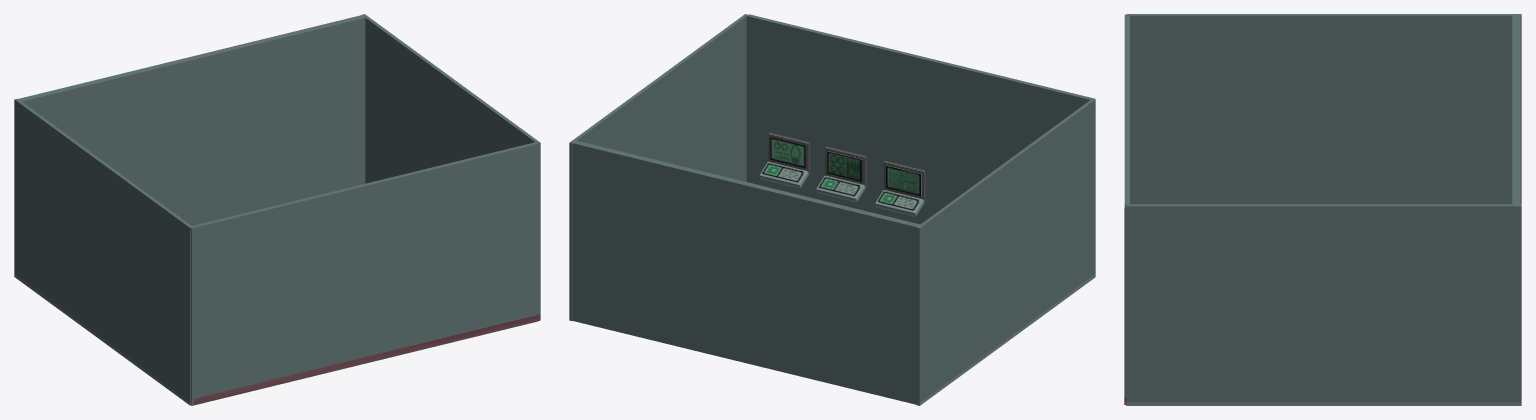
File: 1-3-1_Room 1.fbx
3 renders of one model, left to right at view 1: azimuth 30°, elevation 25°; view 2: azimuth 150°, elevation 25°; view 3: azimuth 270°, elevation 25°, orthographic. The views are drawn at different scales.
Parts seen in each view (by area): view 1: pCube47; view 2: pCube47, pCube43, pCube44, pCube45; view 3: pCube47.
Part boxes in pixels (box(x1,y1,x2,y2)): pCube47: box(14, 14, 540, 405); pCube47: box(569, 14, 1095, 405); pCube43: box(759, 132, 810, 188); pCube44: box(816, 146, 866, 202); pCube45: box(875, 161, 925, 216); pCube47: box(1124, 14, 1521, 405).
Size of the model in its own units: 2513 by 1218 by 2195.
